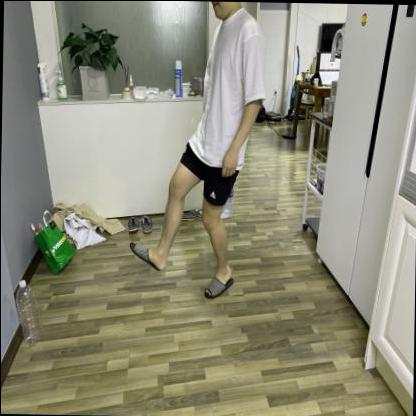no_safety-shoe: (192, 266, 234, 315), (125, 234, 171, 271)
